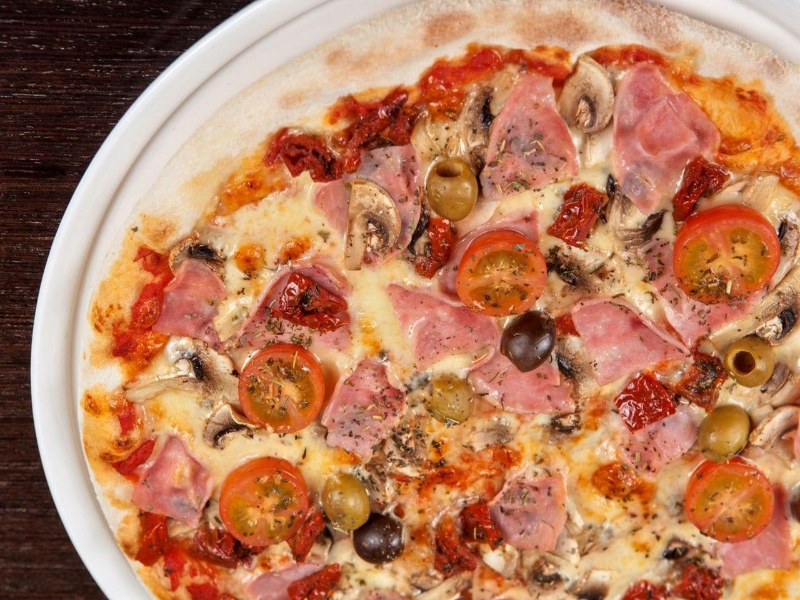champignon: (335, 176, 407, 273), (551, 54, 625, 139)
olive: (488, 305, 566, 380), (690, 399, 761, 465), (420, 154, 479, 232), (715, 334, 786, 397), (348, 506, 417, 570), (316, 470, 379, 538), (419, 368, 478, 430)
